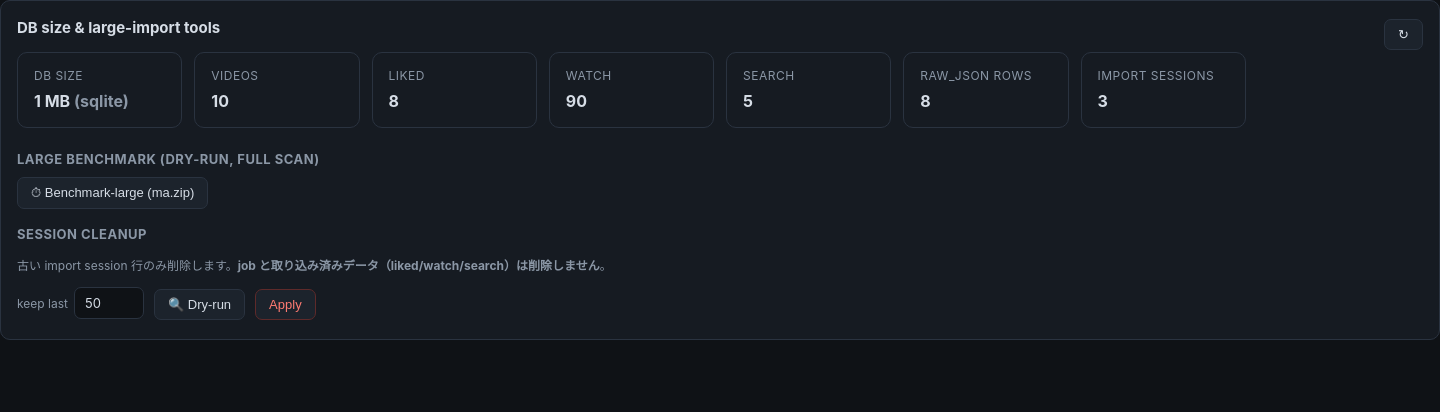
Phase 6E DB stats + cleanup › cleanup dry-run states that jobs + data are NOT deleted
Check: the heading "Session cleanup" is shown, box [17,226,147,242]
Click the button "🔍 Dry-run" at (200, 304), box [154,289,245,320]
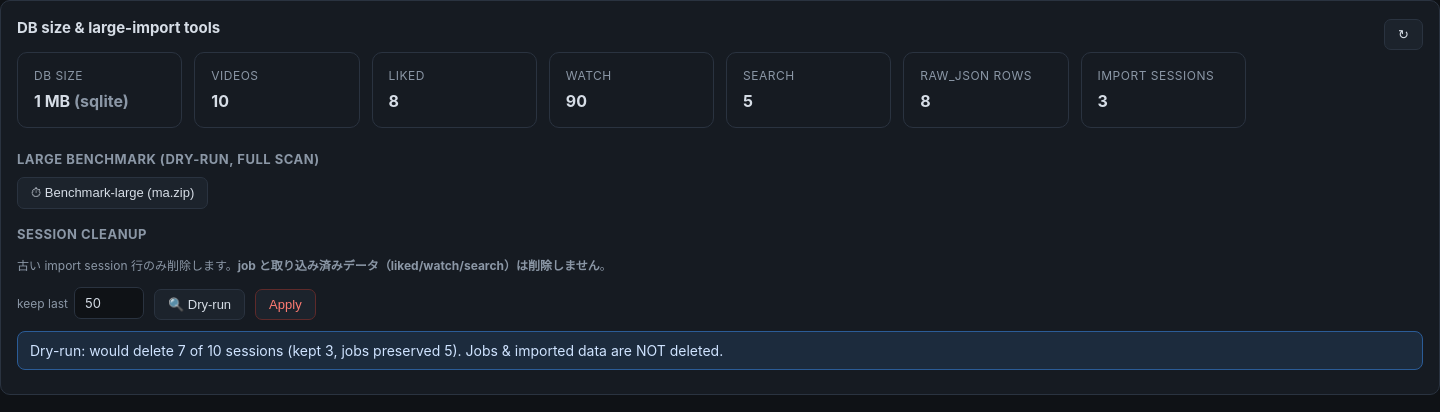
Check: the text "Jobs & imported data are NOT deleted" is shown, box [452,342,723,358]
